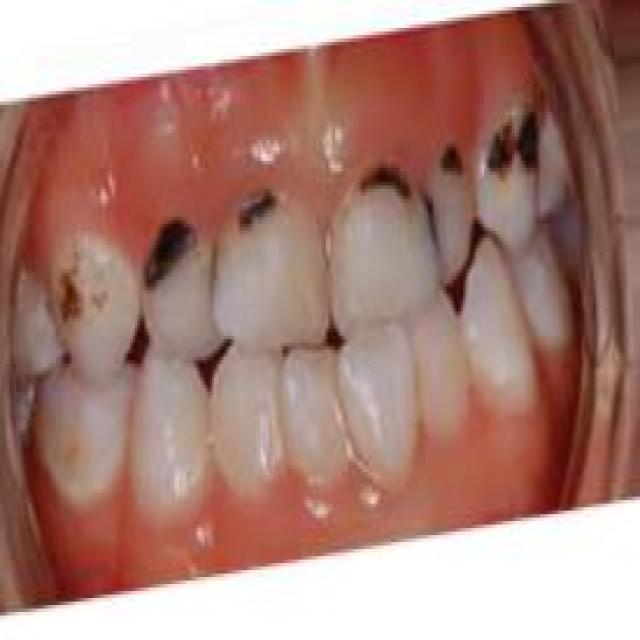caries: (478, 92, 546, 227), (48, 247, 119, 343), (134, 208, 202, 302), (347, 146, 423, 230), (239, 171, 304, 246), (425, 127, 475, 205)
